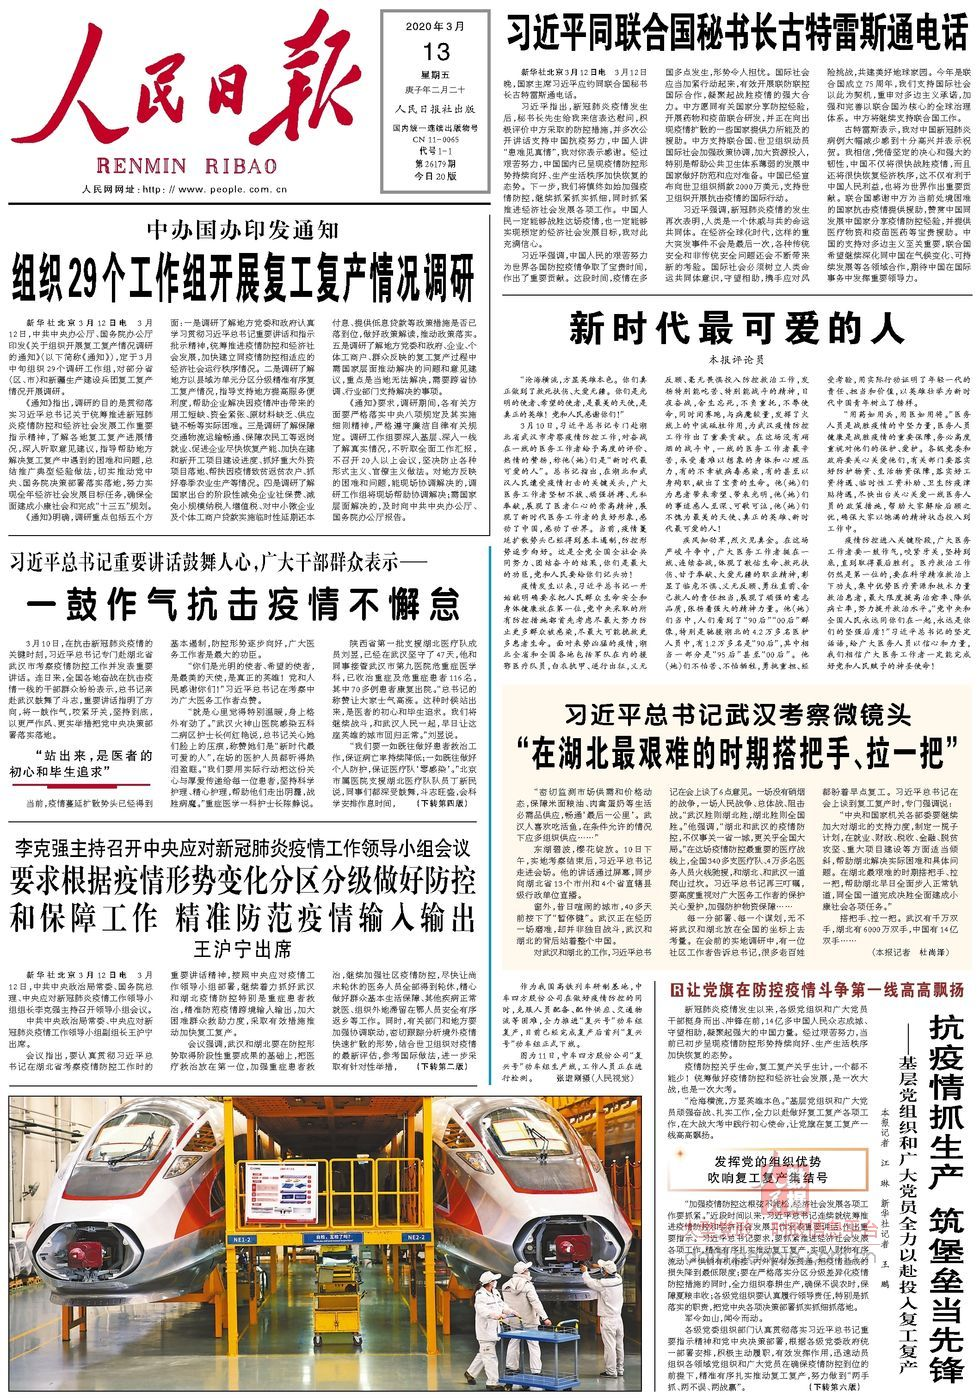pic: (5, 1091, 646, 1395)
